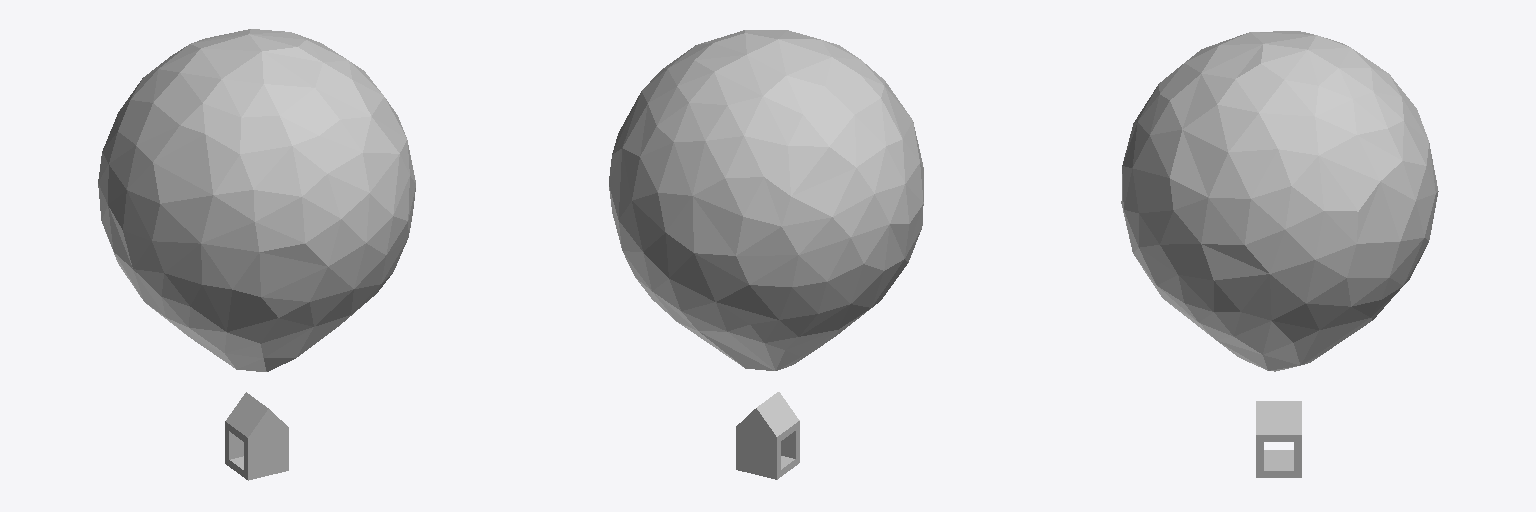
File: balloon.obj
The picture shows the model from 3 angles: view 1: azimuth 30°, elevation 25°; view 2: azimuth 150°, elevation 25°; view 3: azimuth 270°, elevation 25°; orthographic projection.
Visible parts, largest first — view 1: Metaball, Cube; view 2: Metaball, Cube; view 3: Metaball, Cube.
Part boxes in pixels (x1,y1,x2,y2): Metaball: (98, 29, 415, 371); Cube: (225, 392, 288, 480); Metaball: (609, 30, 923, 370); Cube: (736, 392, 799, 479); Metaball: (1121, 31, 1438, 371); Cube: (1256, 401, 1301, 477).
Size of the model in its own units: 81.21 by 119 by 81.21.